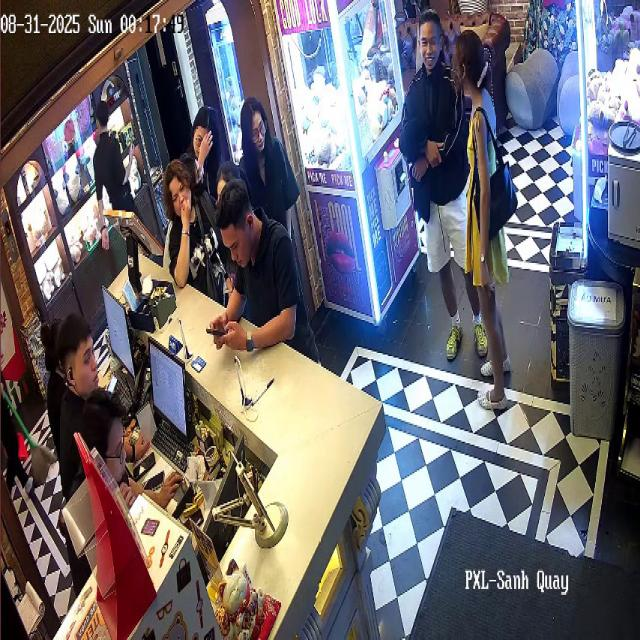khach: (400, 11, 464, 354), (456, 22, 507, 413), (216, 198, 312, 342), (240, 95, 302, 235), (165, 162, 213, 288)
nhan vien: (91, 104, 158, 254), (84, 386, 144, 489), (60, 307, 106, 408)
